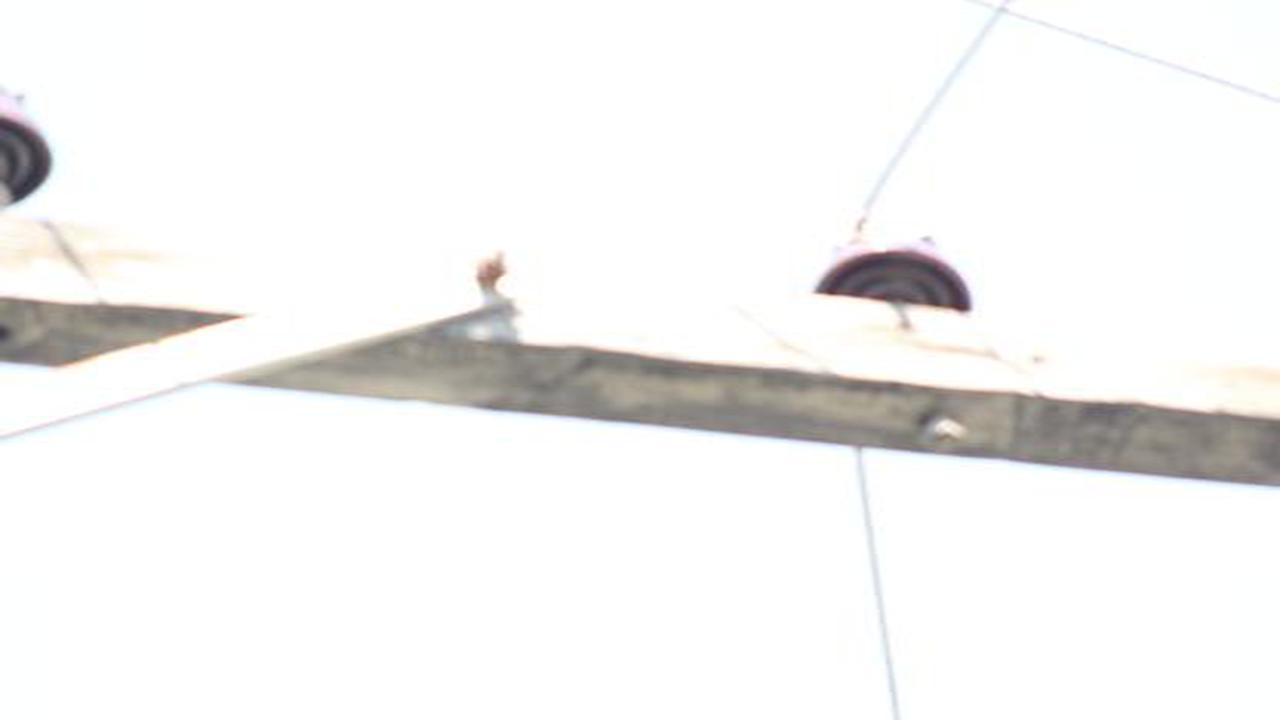insulator_pin: (807, 225, 980, 314)
